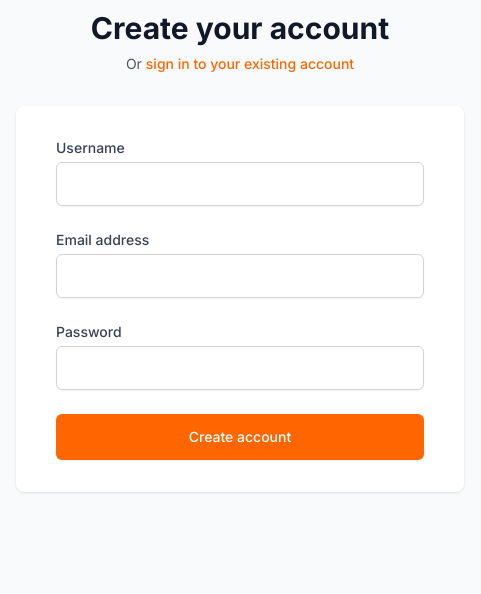
Test: Signup Page › Form Validation - Username › should show error when username is too short
Type "ab" into the field labelled "Username". click: (240, 184)
box: x1=56 y1=162 x2=424 y2=206
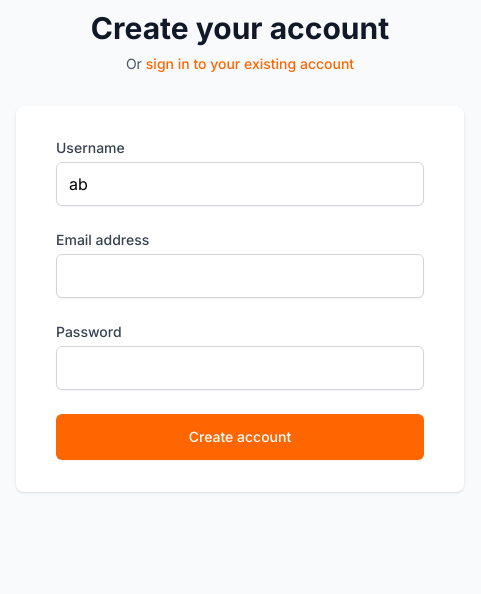
Click the button "Create account". click: (240, 437)
box: x1=56 y1=414 x2=424 y2=460
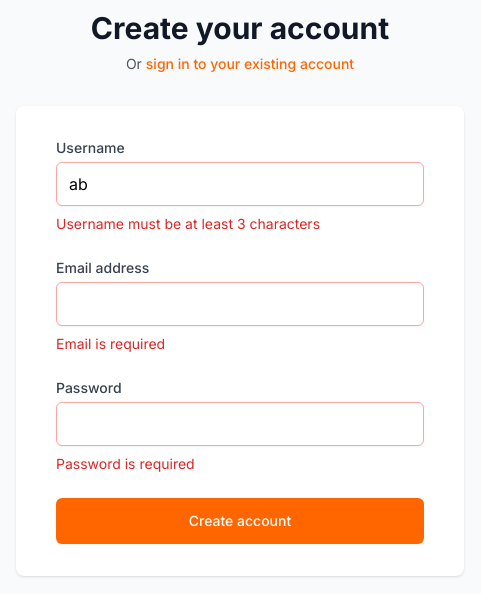
Now the text "Username must be at least 3 characters" is shown, box x1=56 y1=215 x2=320 y2=232
